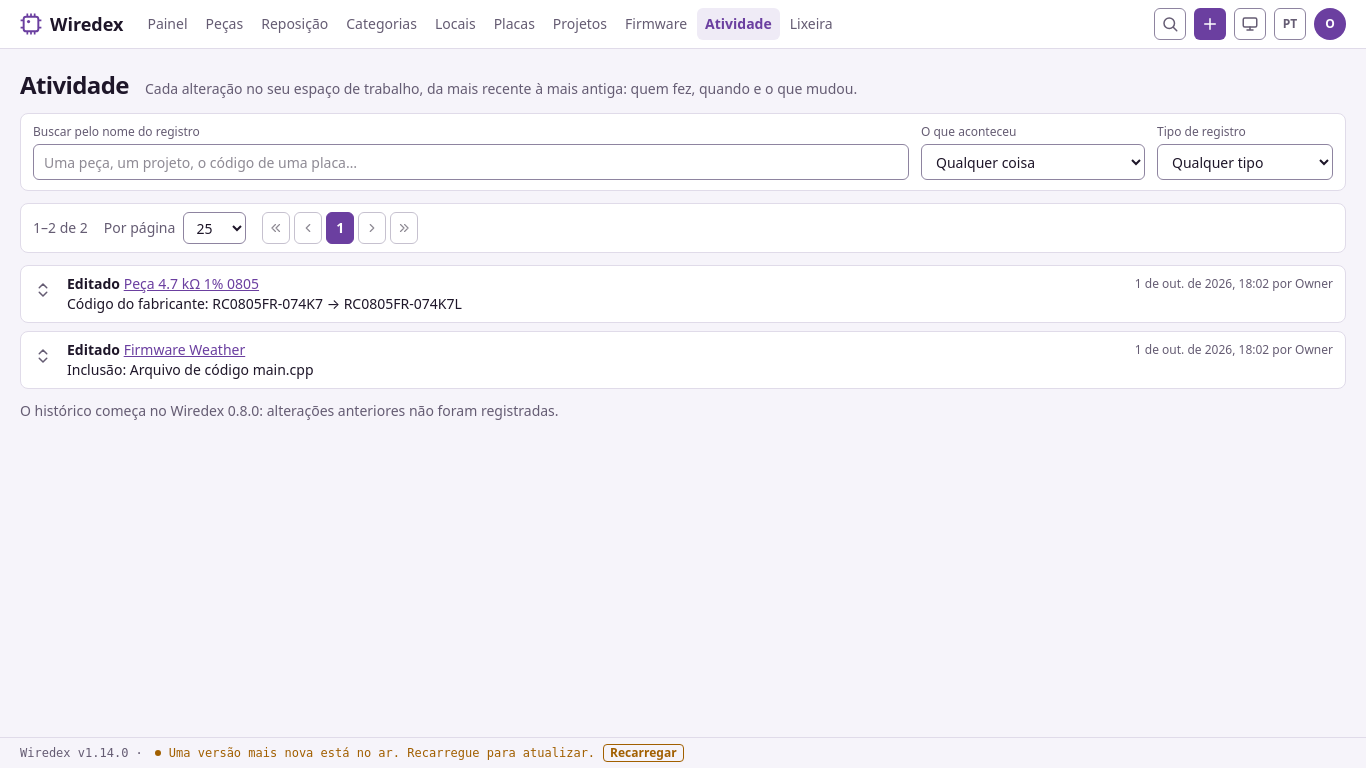
ActivityPage › speaks Brazilian Portuguese
The width and height of the screenshot is (1366, 768).
Check: the heading "Atividade" is shown, box [20,69,129,101]
Check: the 6th list item shows "Editado", box [67,274,120,293]
Click the button named "Expandir" in the row of "Peça 4.7 kΩ 1% 0805" at (43, 290), box [27,274,59,306]
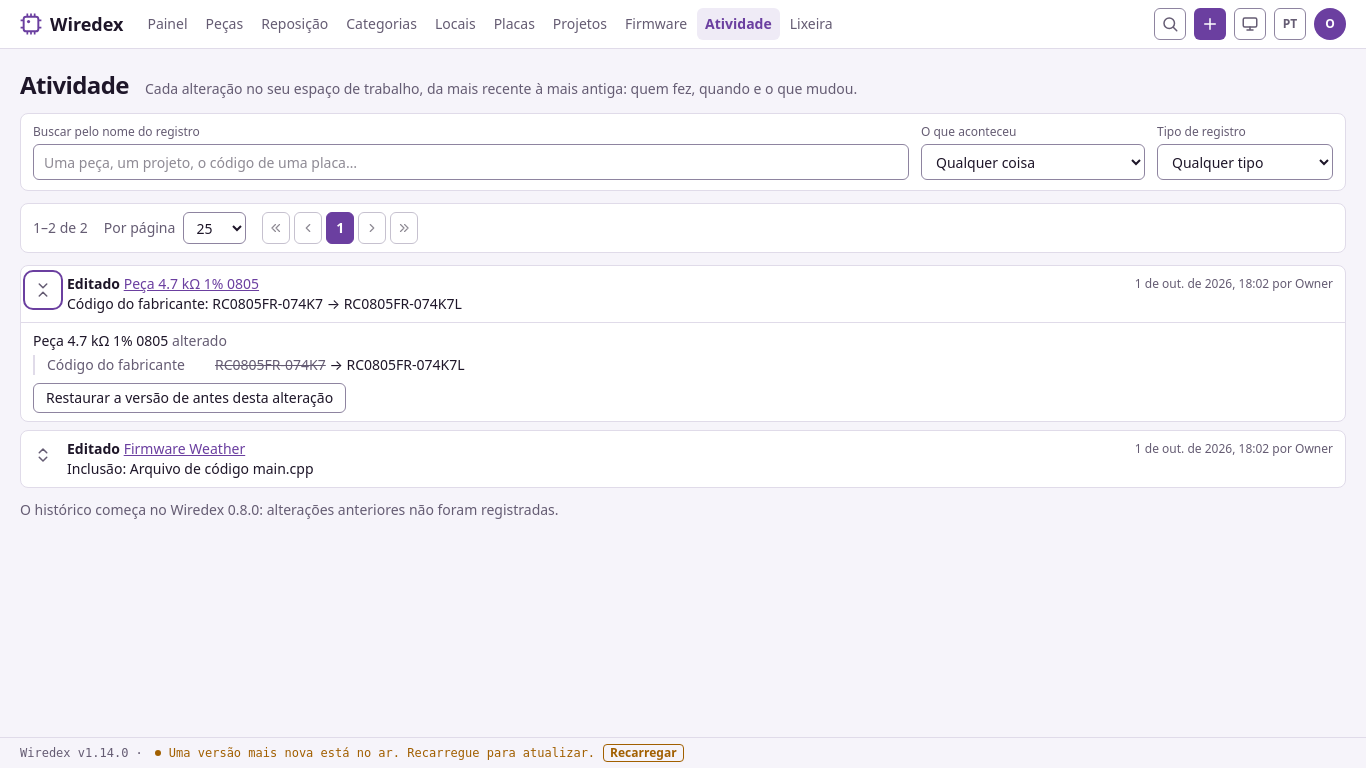
Check: the text "Código do fabricante" is shown, box [47,355,207,375]
Check: the button "Restaurar a versão de antes desta alteração" is shown, box [33,383,346,413]
